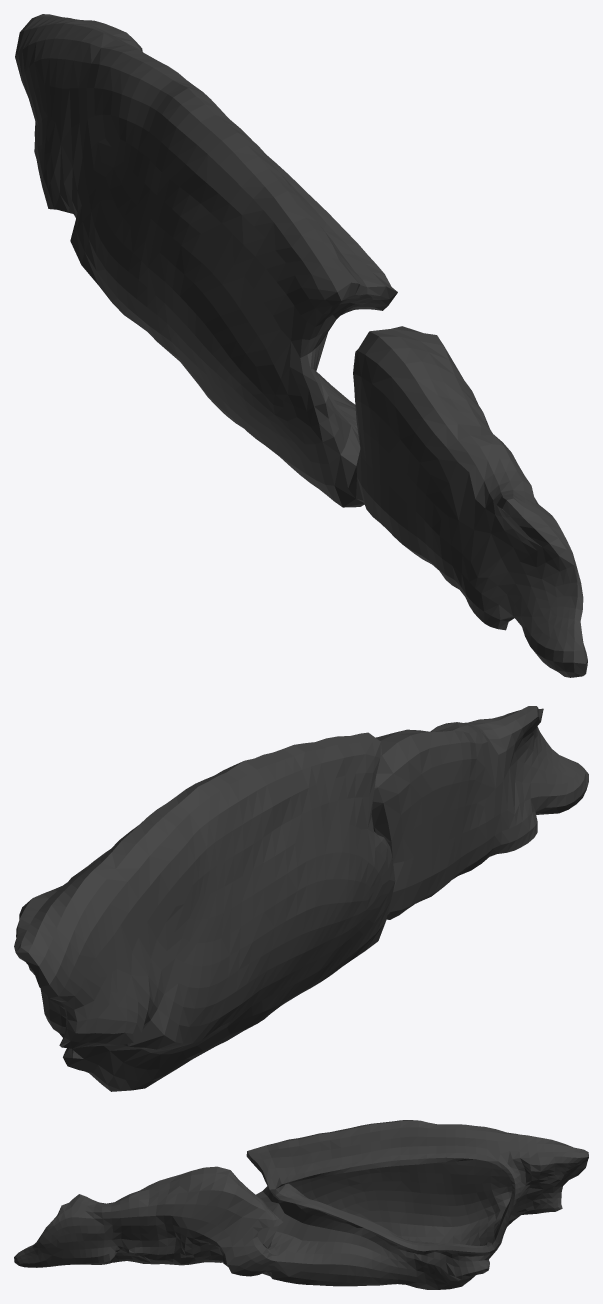
Rendered from L_dorsal_conchal_sinus.glb.
The picture shows the model from 3 angles, top to bottom: view 1: azimuth 30°, elevation 25°; view 2: azimuth 150°, elevation 25°; view 3: azimuth 270°, elevation 25°; orthographic projection. The views are drawn at different scales.
Parts seen in each view (by area): view 1: L_dorsal_conchal_sinus; view 2: L_dorsal_conchal_sinus; view 3: L_dorsal_conchal_sinus.
Part boxes in pixels (<box>): L_dorsal_conchal_sinus: <box>15,14,587,677</box>; L_dorsal_conchal_sinus: <box>14,706,588,1091</box>; L_dorsal_conchal_sinus: <box>14,1120,588,1289</box>.
Bounding box in the file's own units: 24.97 × 52.27 × 172.
Materials: 1 (1 with a texture image).
